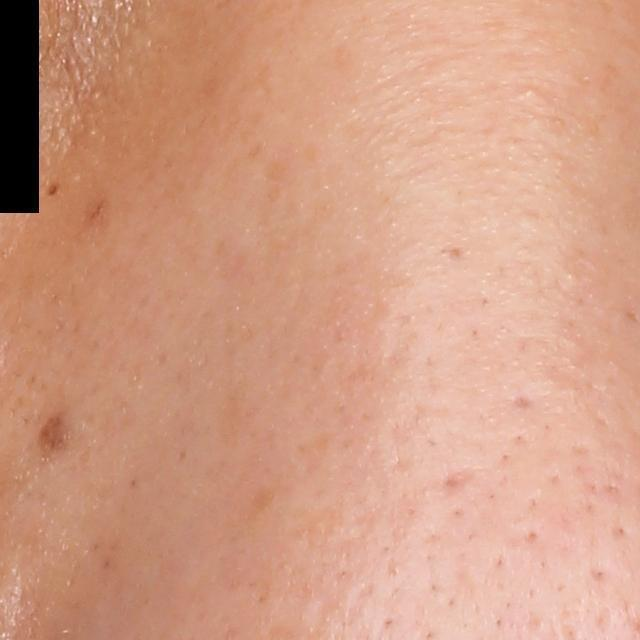atrophic_scar: (440, 466, 477, 499)
nevus: (38, 407, 71, 455)
